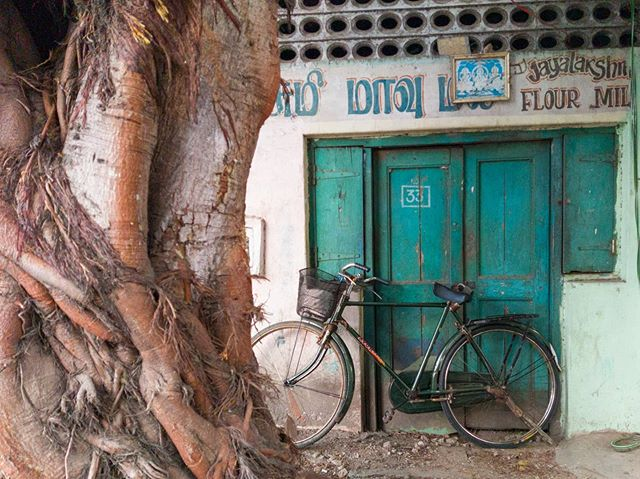bicicle: (263, 265, 558, 458)
door: (353, 143, 557, 433)
tree: (1, 3, 307, 479)
